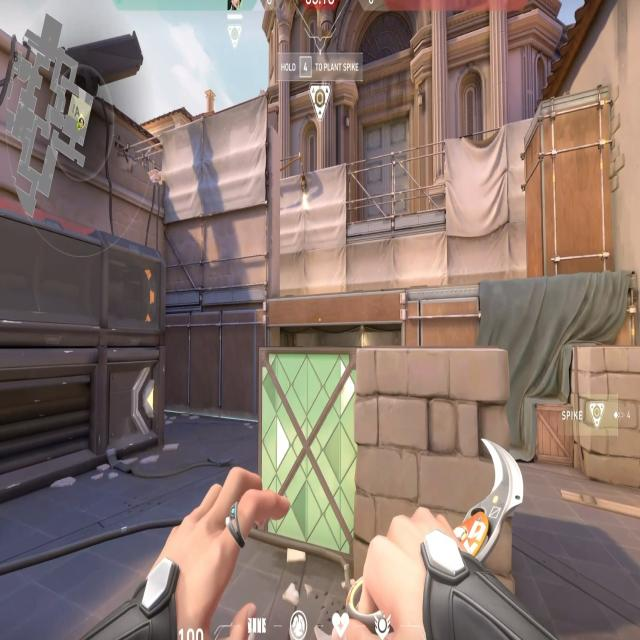A_Heaven_Box: (520, 80, 620, 272)
A_Heaven_Wall: (166, 90, 301, 299)
A_Site_Box: (252, 332, 511, 584)
